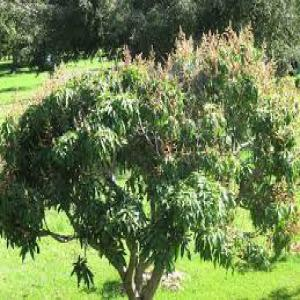Tree: (2, 21, 298, 298)
